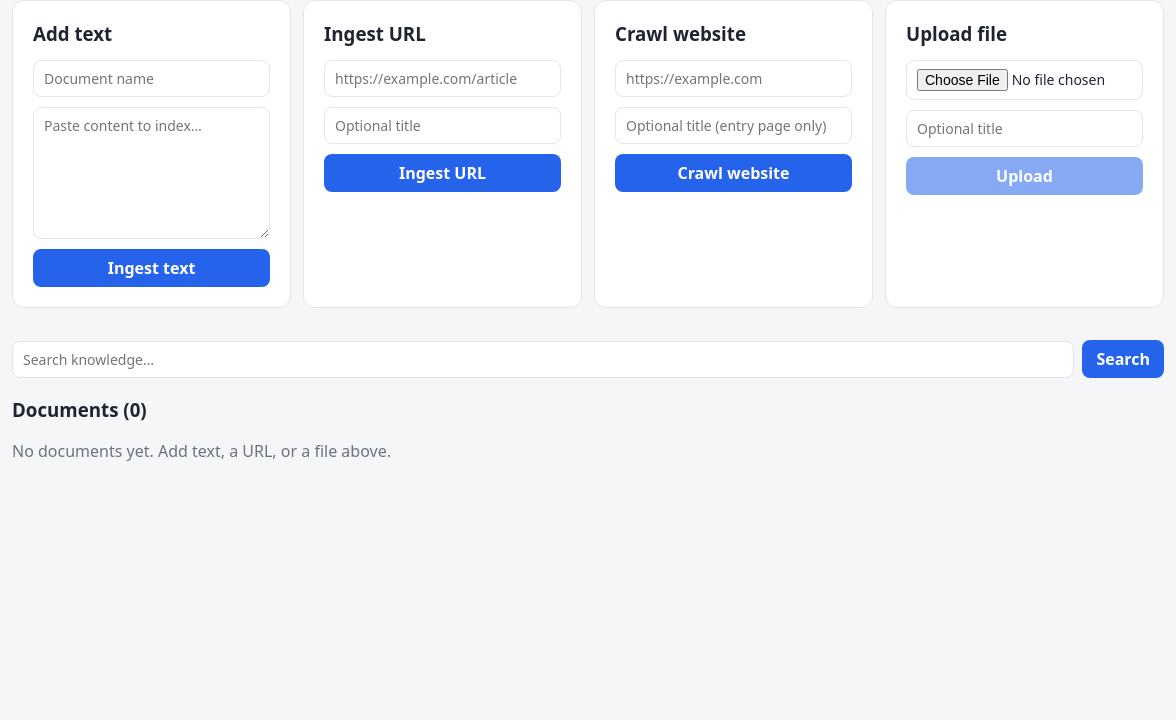
Test case: KnowledgePage › searches knowledge and renders scored results
Expected: the text "No documents yet. Add text, a URL, or a file above." is shown, x1=12 y1=440 x2=391 y2=462
Type "zebra" into the field with placeholder "Search knowledge…" at (543, 359), box x1=12 y1=340 x2=1074 y2=378
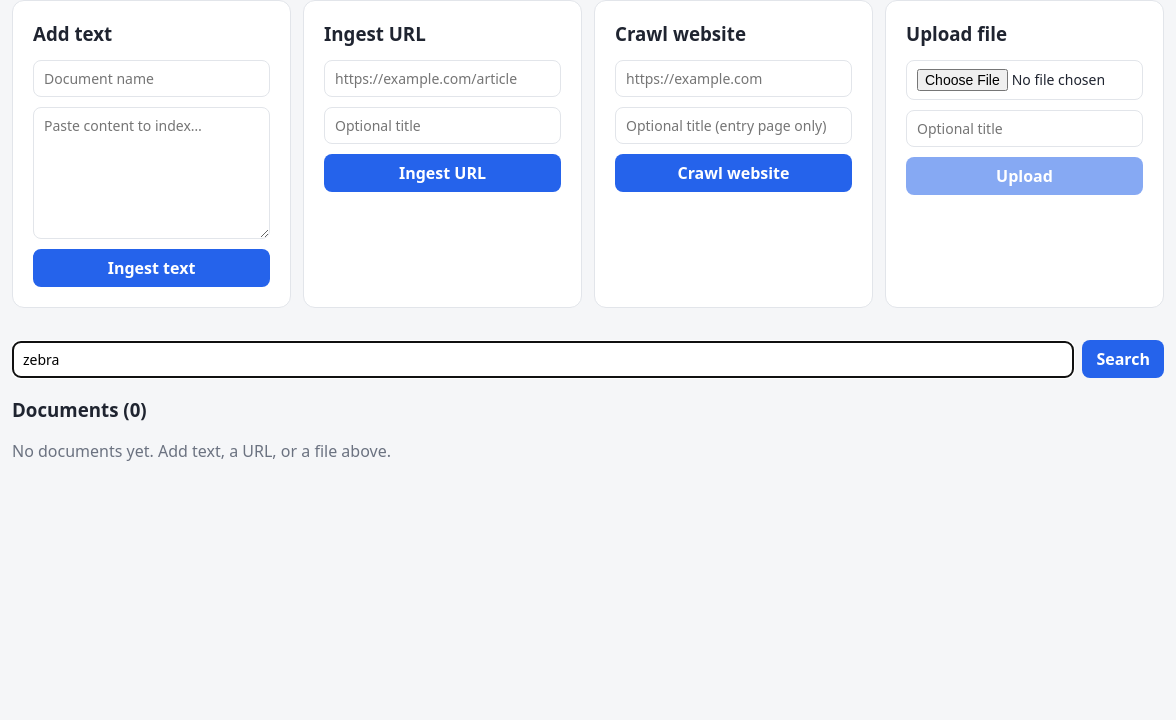
Click the button "Search" at (1123, 359), box x1=1082 y1=340 x2=1164 y2=378
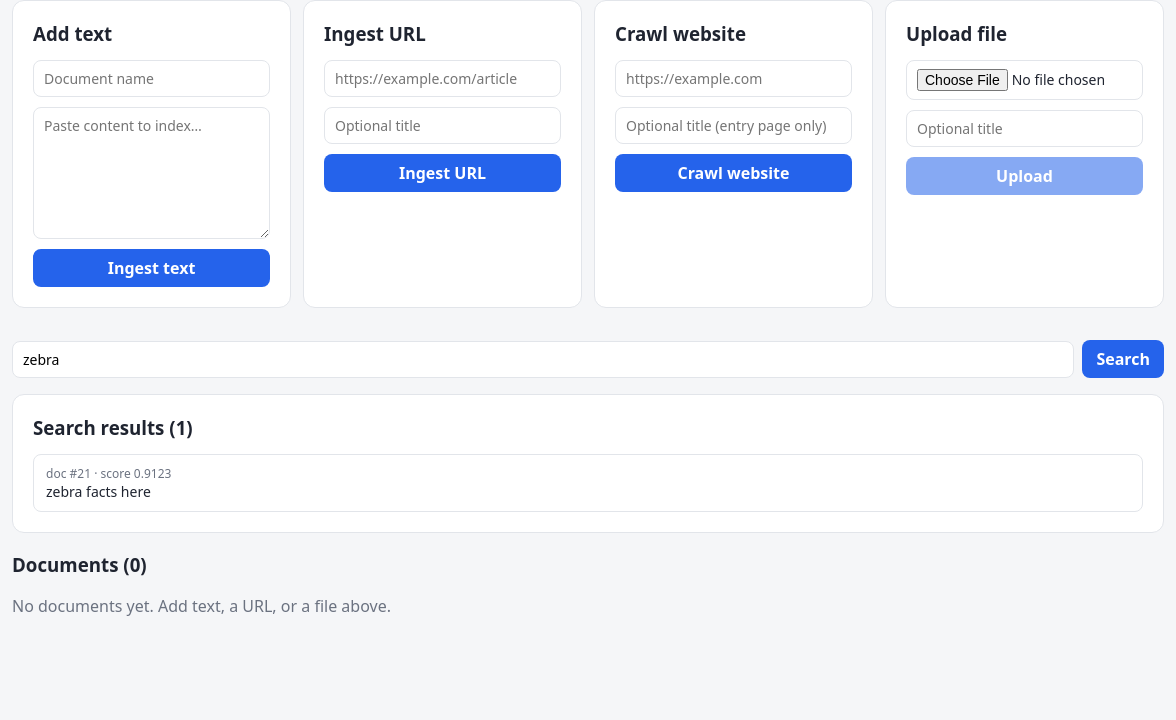
Now the heading "Search results (1)" is shown, box x1=33 y1=415 x2=193 y2=440
Now the text "zebra facts here" is shown, box x1=46 y1=482 x2=151 y2=501
Now the text "doc #21 · score 0.9123" is shown, box x1=46 y1=465 x2=171 y2=482
